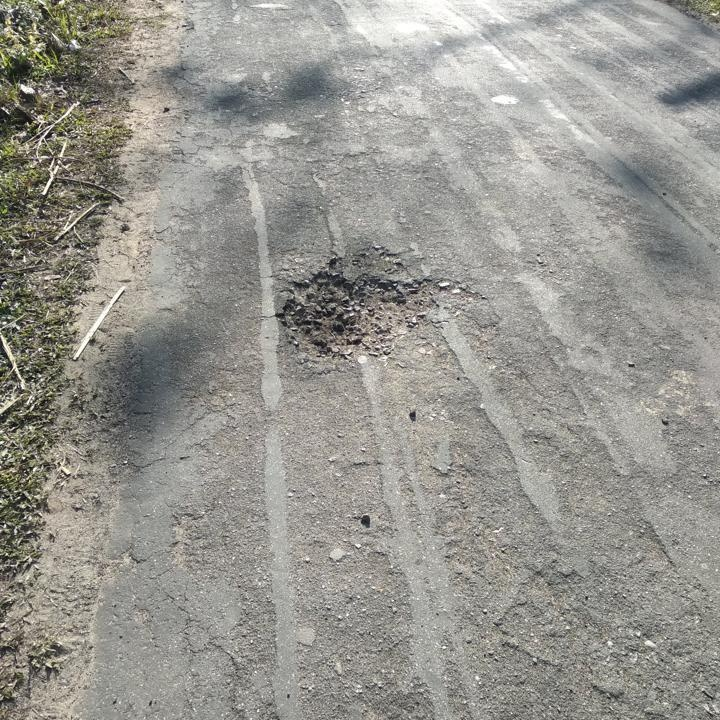pothole: (275, 246, 465, 365)
